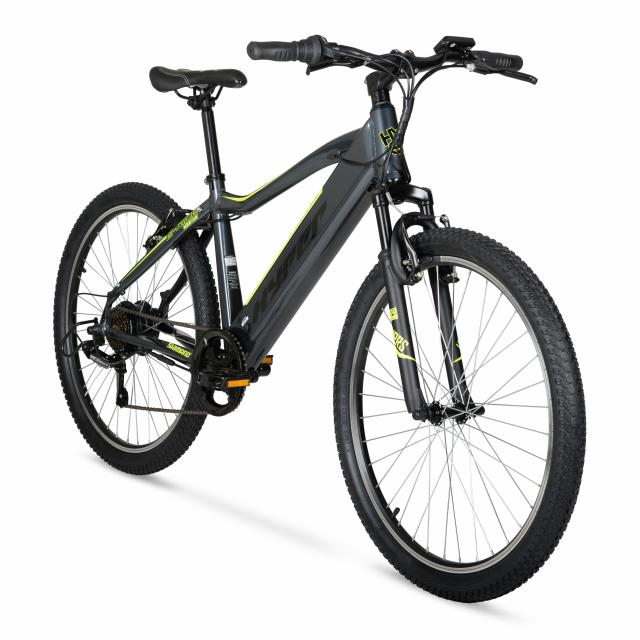bicycle: (34, 14, 592, 611)
